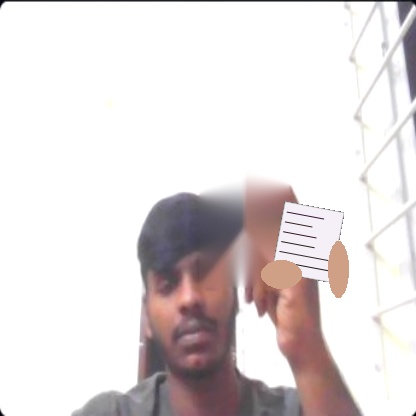cheat_chit: (271, 201, 344, 283)
